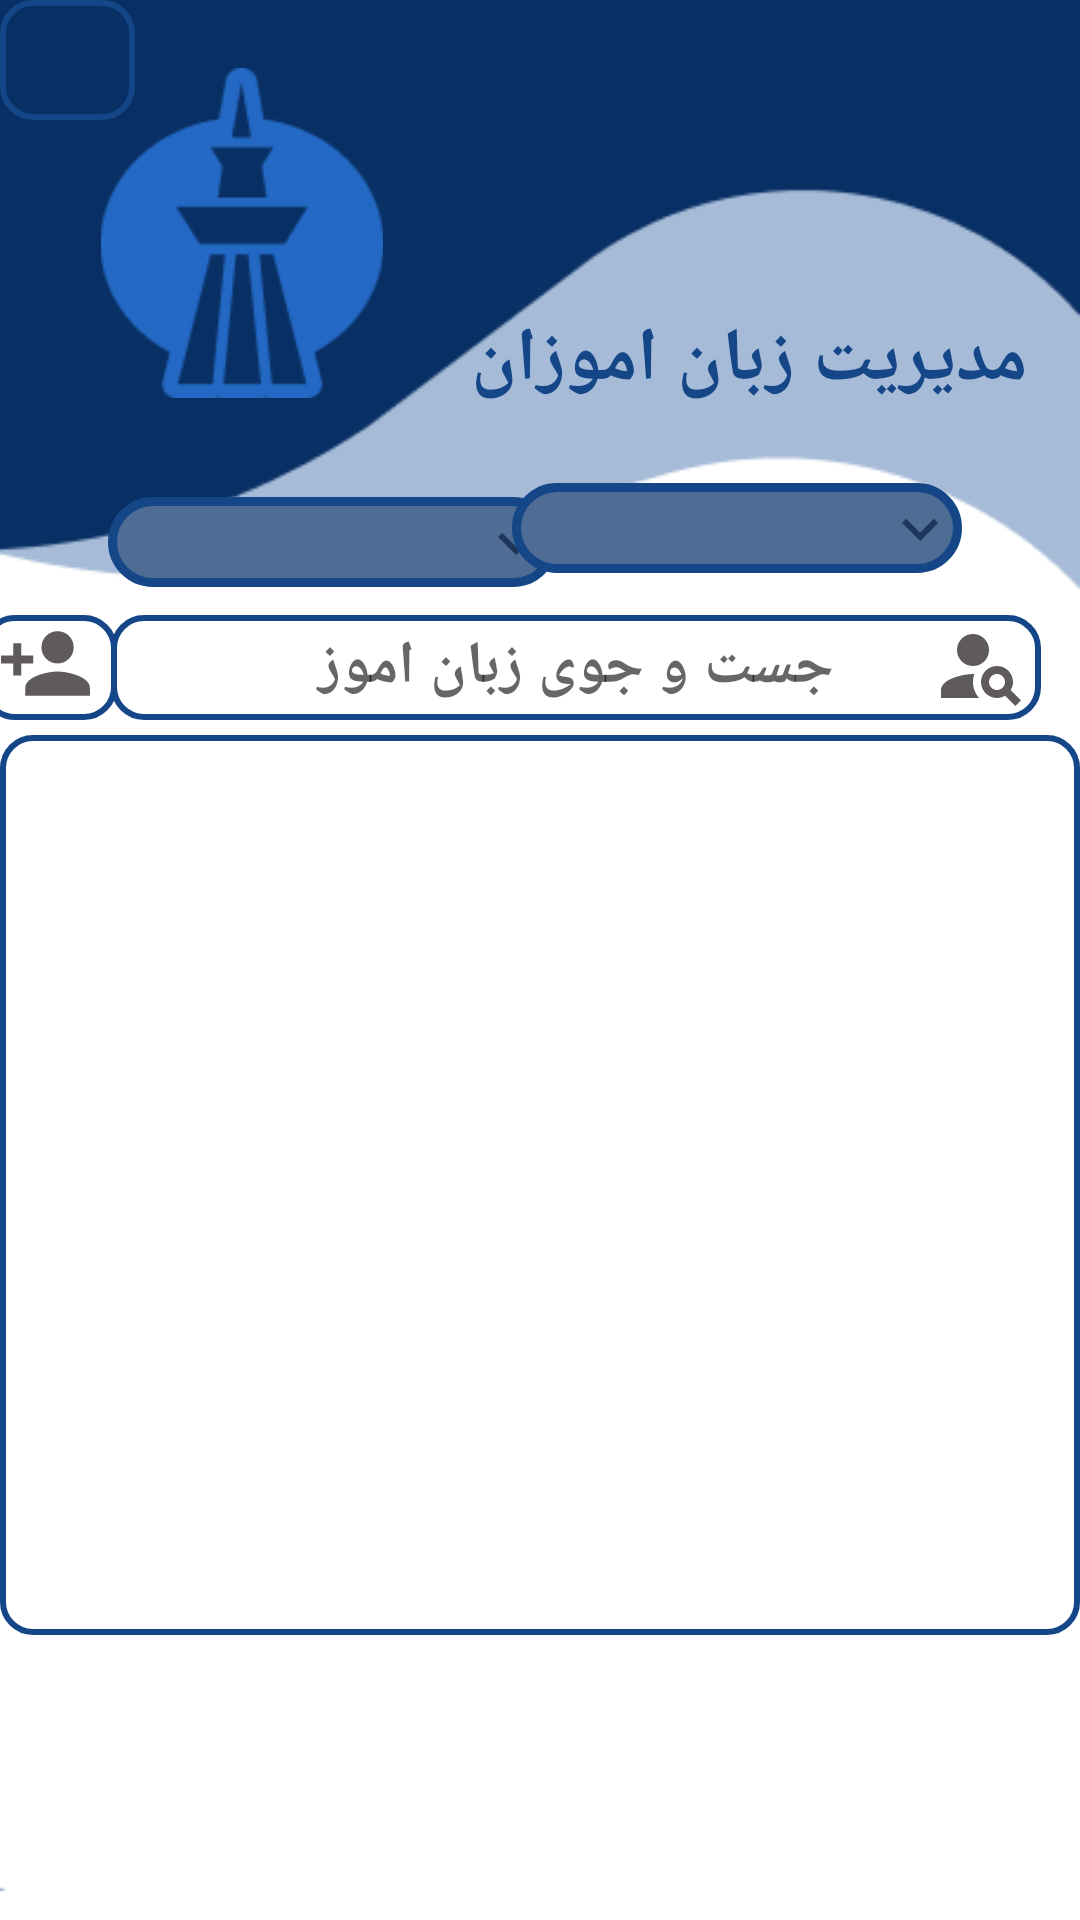

Icon click points for this 1080*1920 phone screenshot, format (x=x, y=y):
person search: (x=981, y=666)
